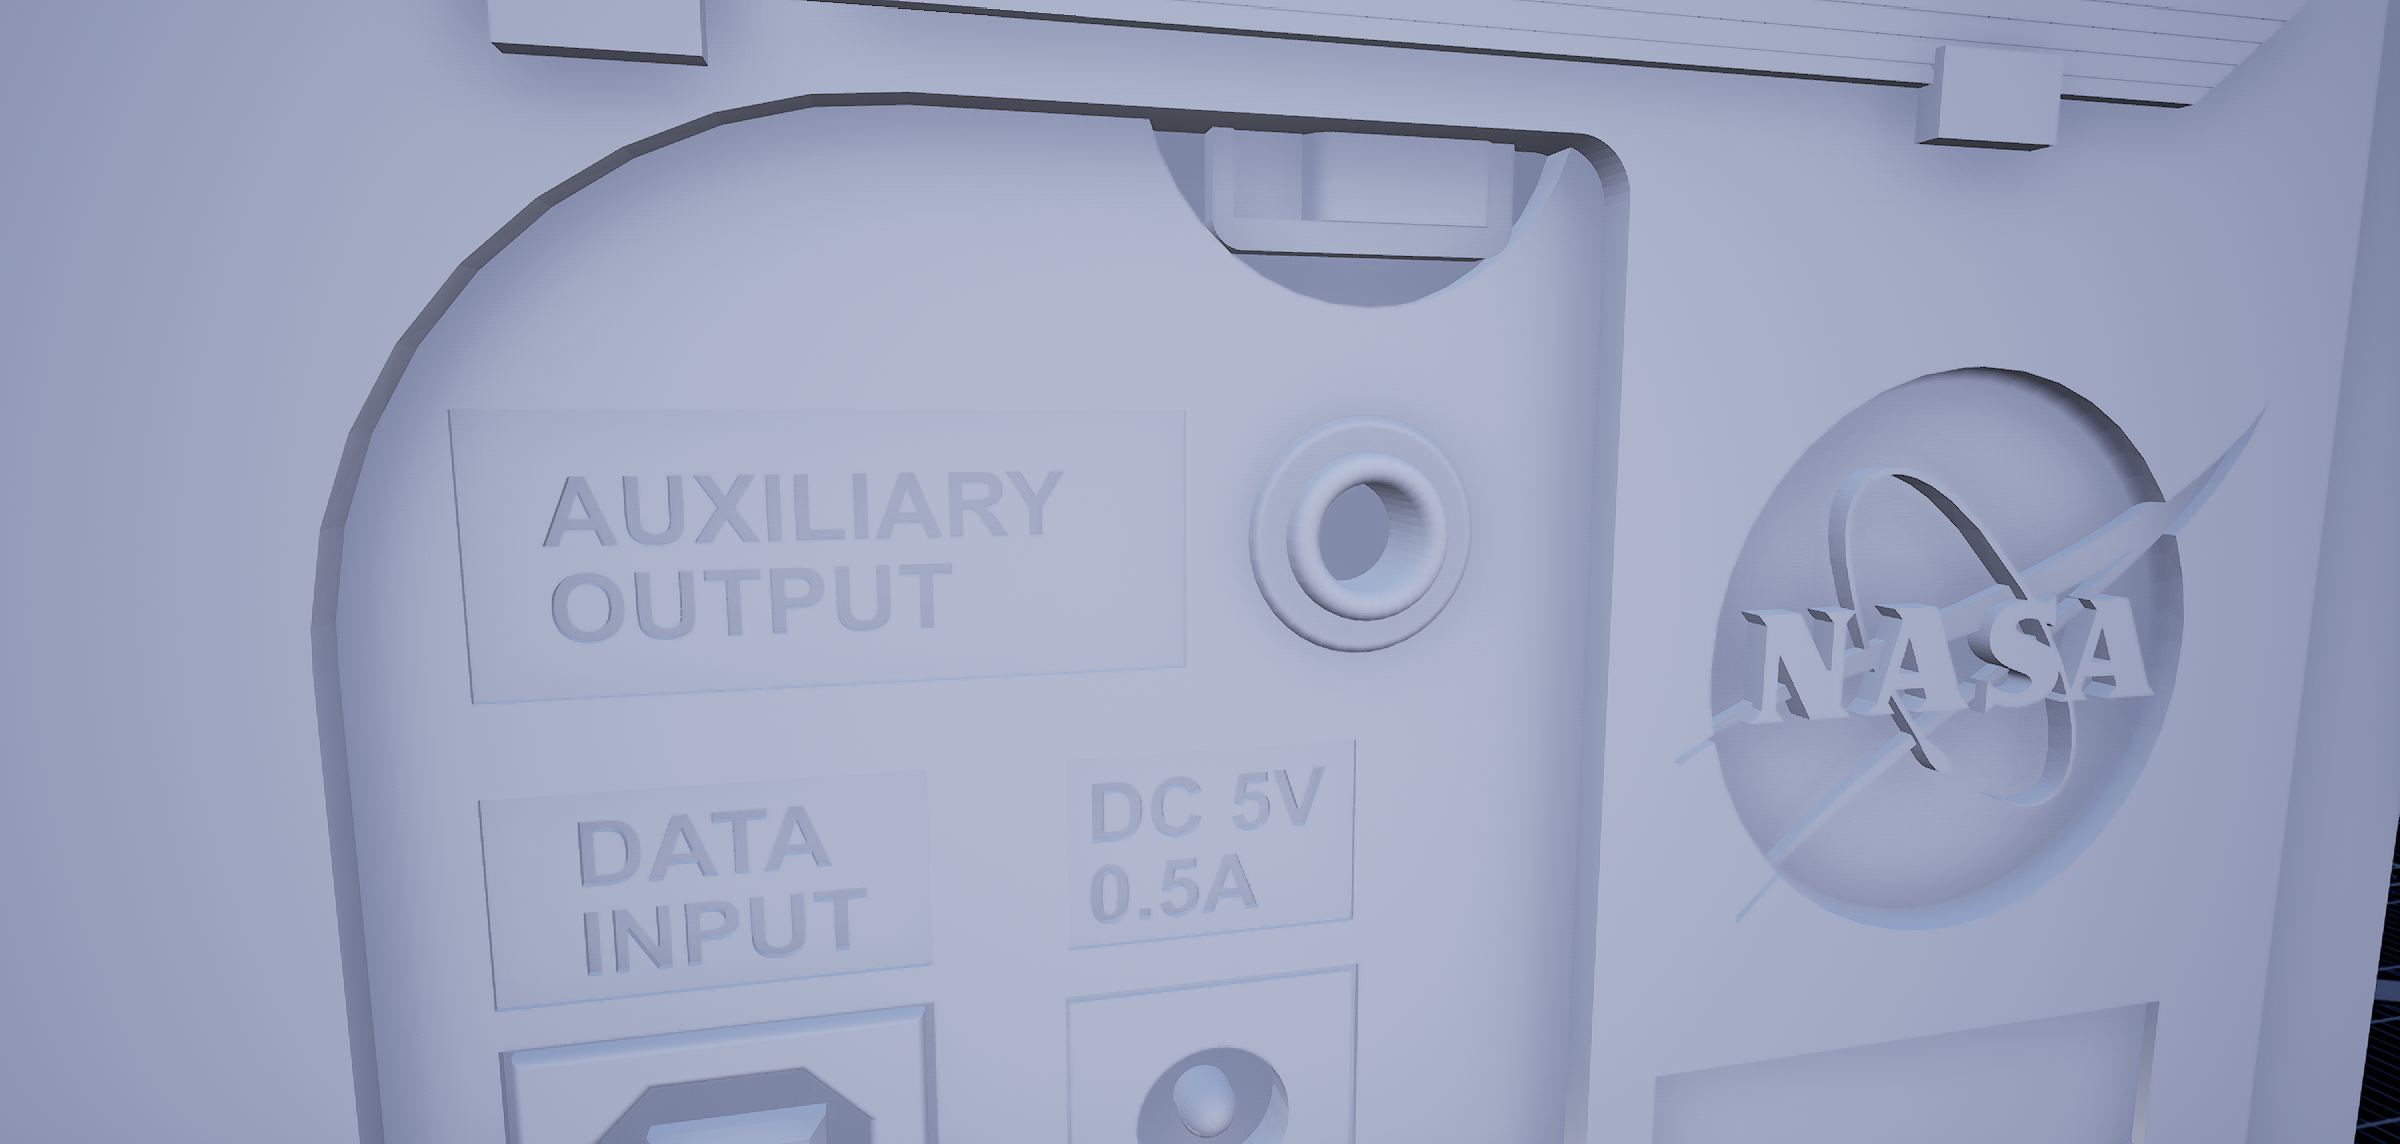aux: (1238, 397, 1485, 672)
dc: (1130, 1046, 1296, 1144)
usb: (583, 1070, 888, 1144)
